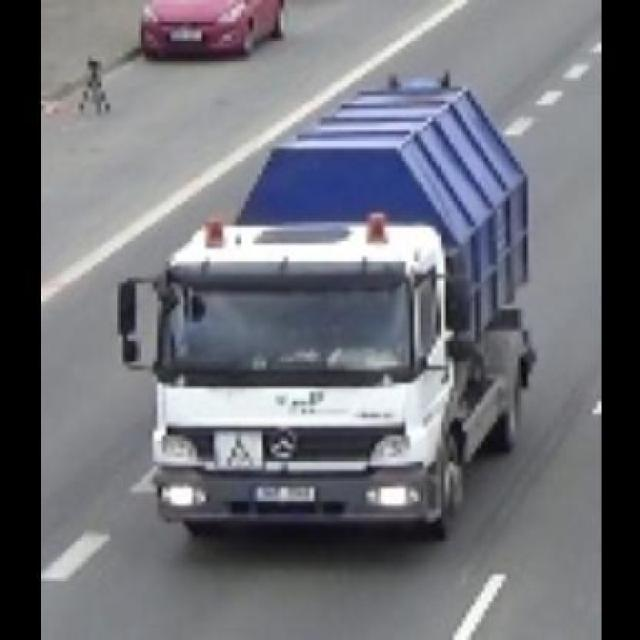car: (141, 0, 284, 60)
truck: (114, 83, 535, 551)
